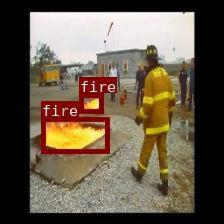fire: (41, 117, 108, 153), (79, 93, 103, 113)
